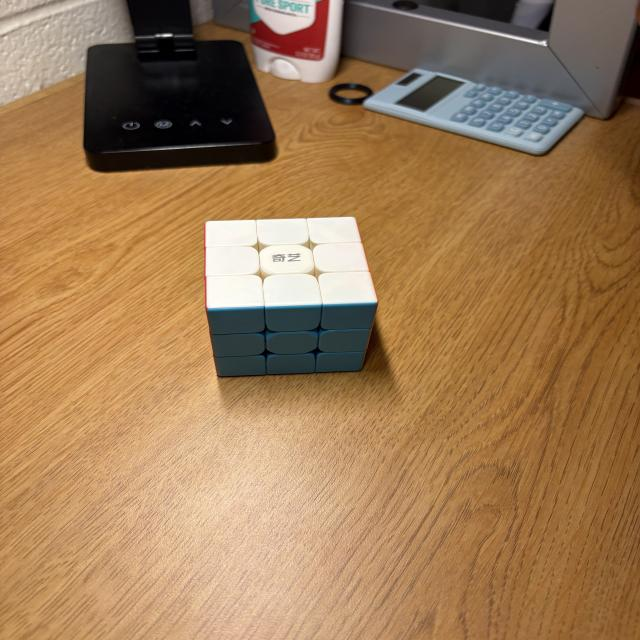Rubiks Cube: (206, 216, 377, 377)
